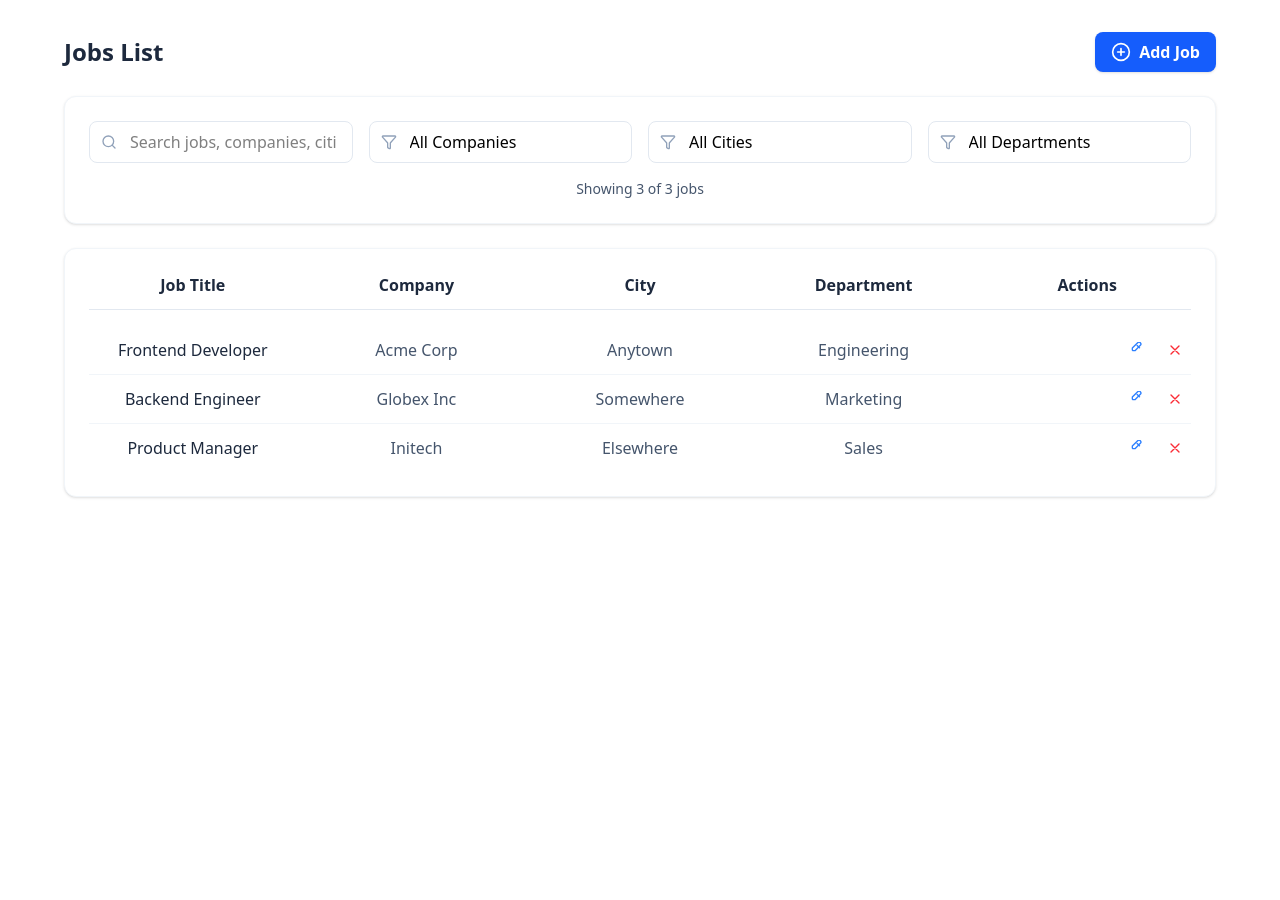
JobSelector › should update job successfully
Click the 2nd button at (1135, 350), box [1119,338,1151,362]
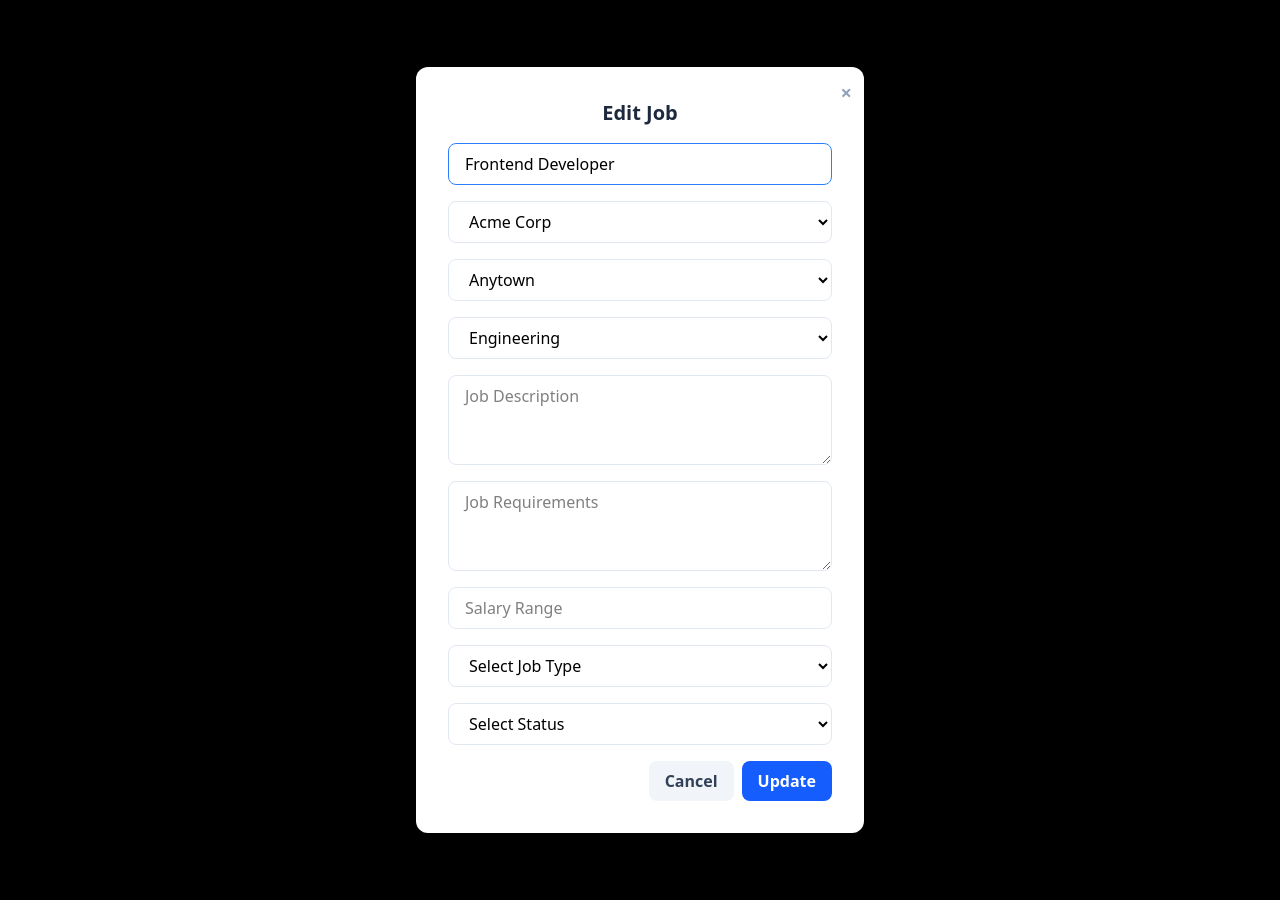
Replace the text in the field showing "Frontend Developer" with "Updated Frontend Developer" at (640, 164), box [448,143,832,185]
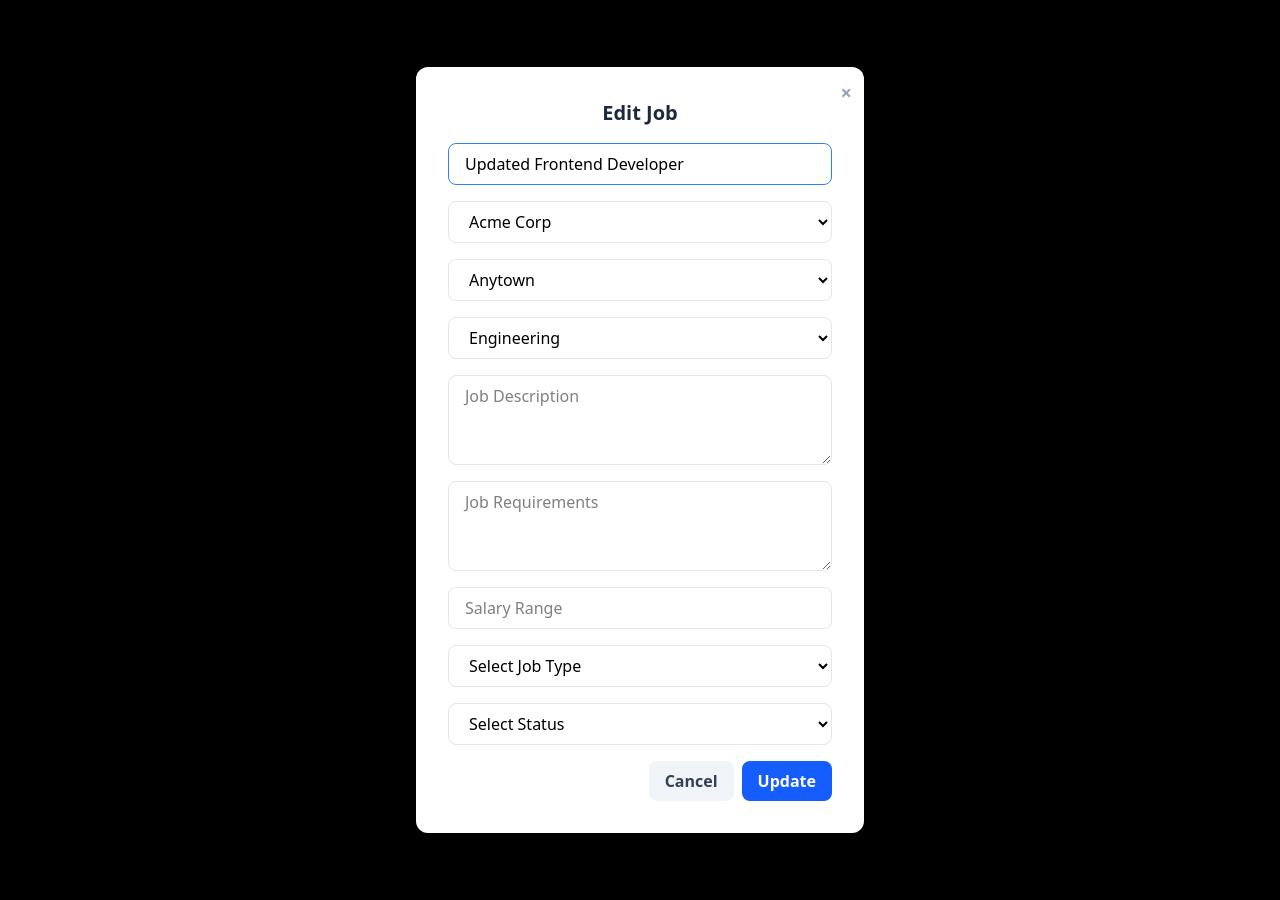
Click the button "Update" at (787, 781), box [742,761,832,801]
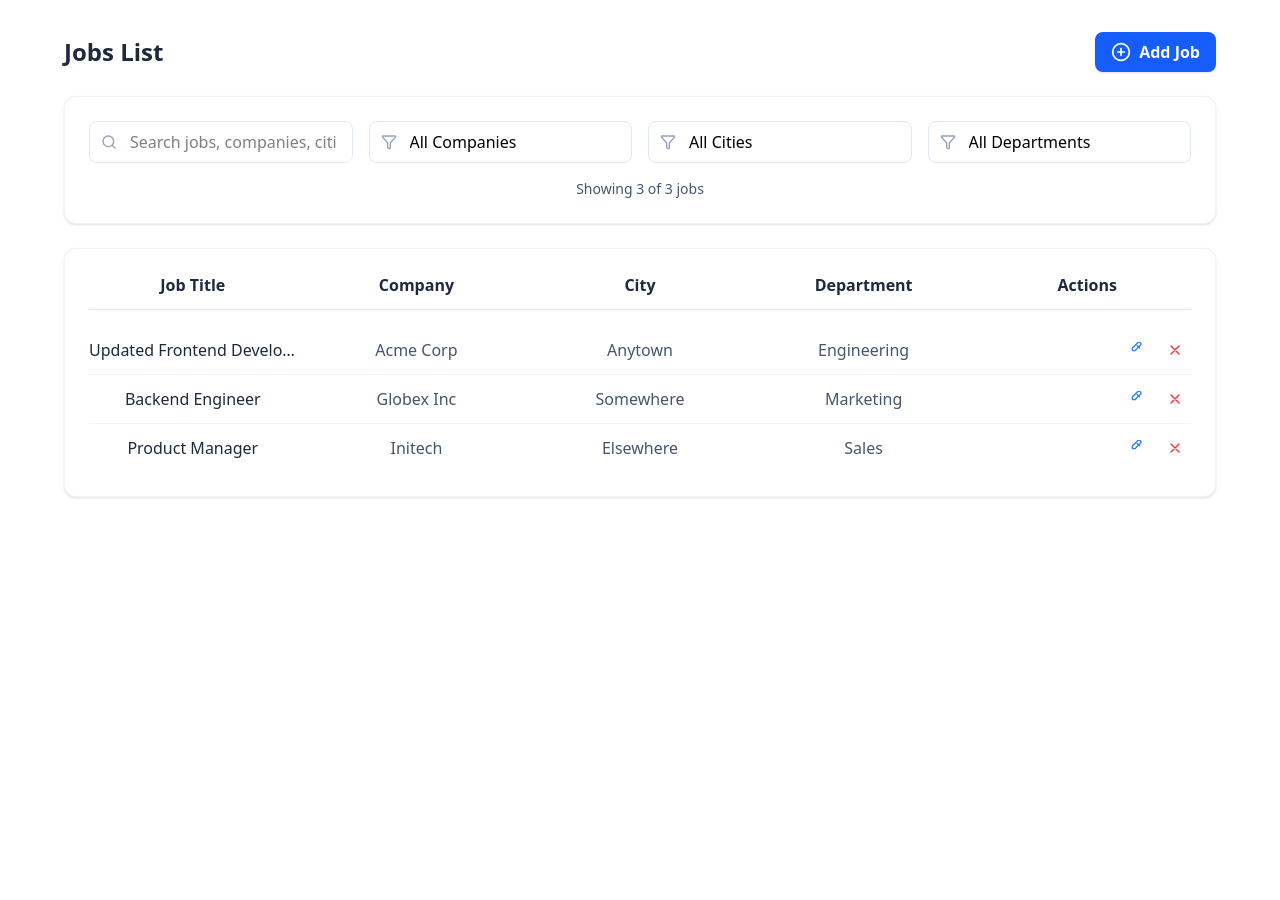
Expected: the text "Updated Frontend Developer" is shown, [89,338,297,362]
